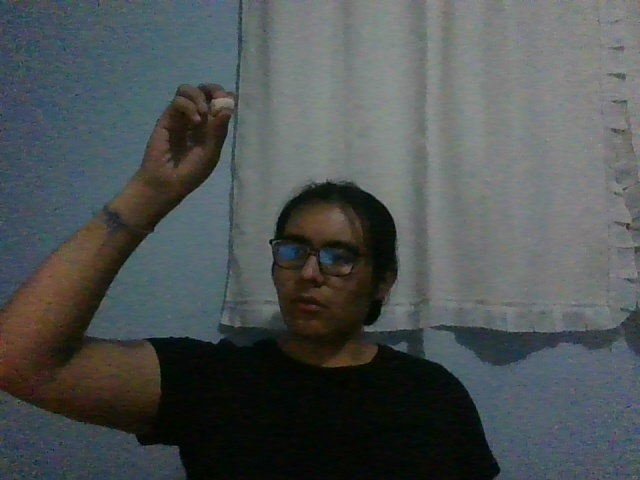goma: (208, 98, 235, 117)
